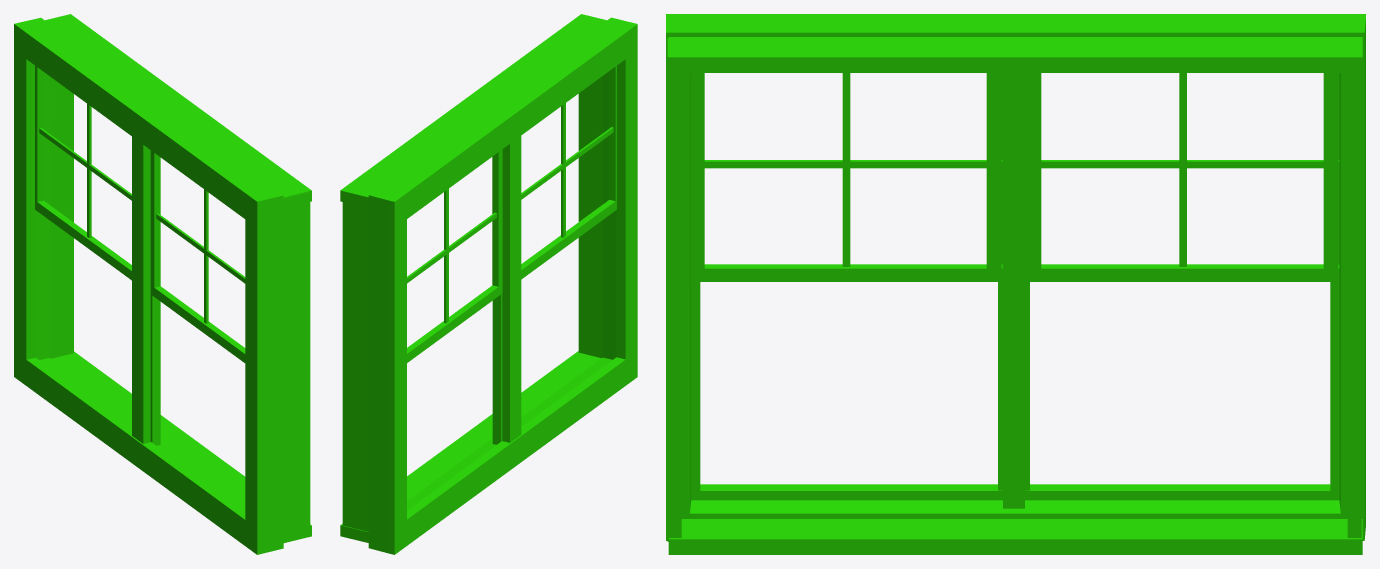
Rendered from Window_C_02_Lod0.fbx.
3 renders of one model, left to right at view 1: azimuth 30°, elevation 25°; view 2: azimuth 150°, elevation 25°; view 3: azimuth 270°, elevation 25°, orthographic. The views are drawn at different scales.
Visible parts, largest first — view 1: Window_C_02_Lod0; view 2: Window_C_02_Lod0; view 3: Window_C_02_Lod0.
Part boxes in pixels (x1,y1,x2,y2): Window_C_02_Lod0: [14, 14, 311, 554]; Window_C_02_Lod0: [340, 14, 637, 554]; Window_C_02_Lod0: [666, 14, 1365, 554].
Size of the model in its own units: 22.84 by 139 by 173.
